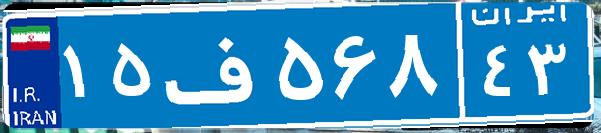1: (57, 26, 110, 107)
3: (525, 38, 570, 115)
4: (475, 38, 525, 113)
5: (273, 28, 330, 110), (110, 28, 158, 105)
6: (330, 28, 385, 110)
8: (385, 28, 445, 110)
ف: (158, 15, 273, 115)
